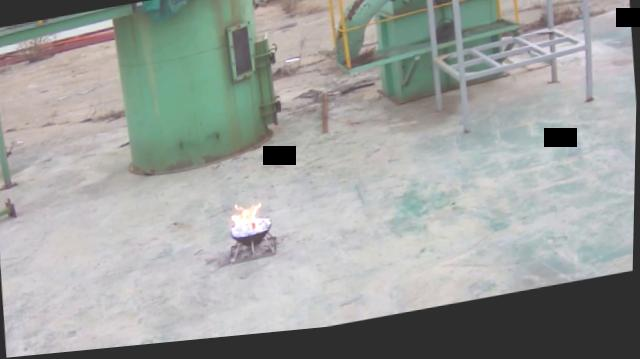fire: (232, 205, 266, 235)
